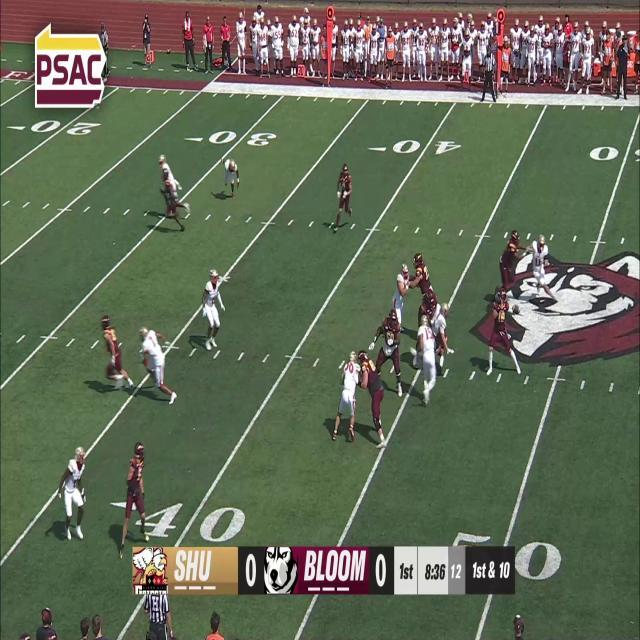football: (512, 304, 521, 315)
